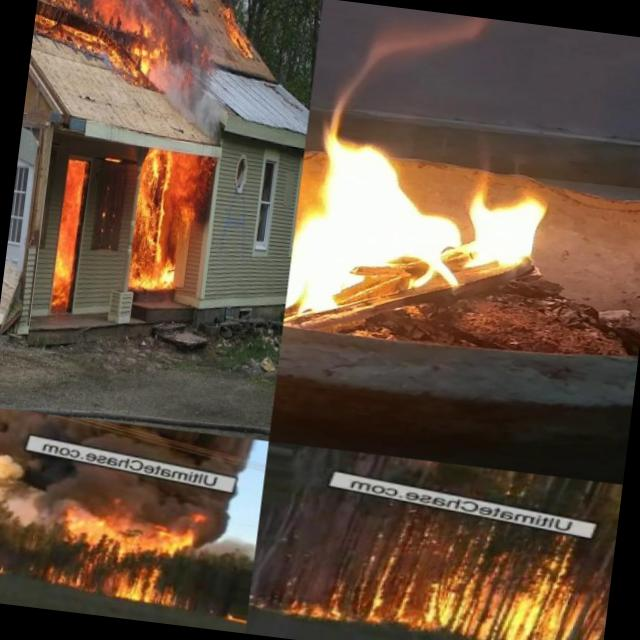fire: (282, 0, 587, 357), (266, 527, 608, 640), (119, 134, 215, 299), (86, 0, 192, 85), (41, 152, 91, 322), (66, 506, 202, 564), (113, 564, 198, 608), (32, 0, 84, 43), (215, 15, 258, 64), (48, 562, 98, 590), (0, 557, 12, 576)
smoke: (158, 35, 230, 139), (0, 454, 79, 528)
